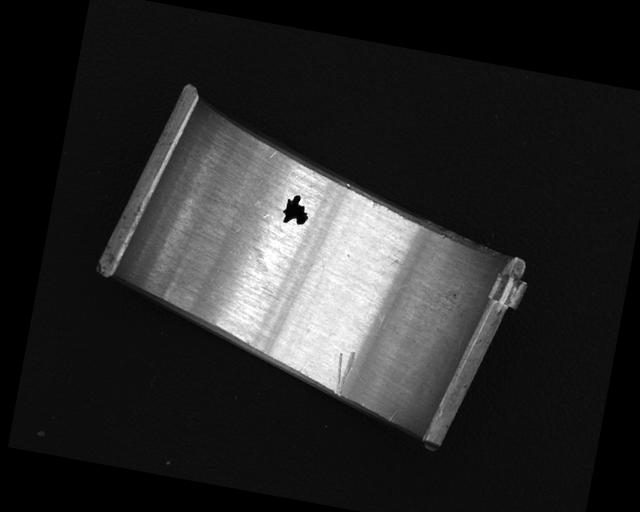blot: (279, 191, 312, 228)
nick: (330, 349, 357, 398), (388, 407, 398, 424)
